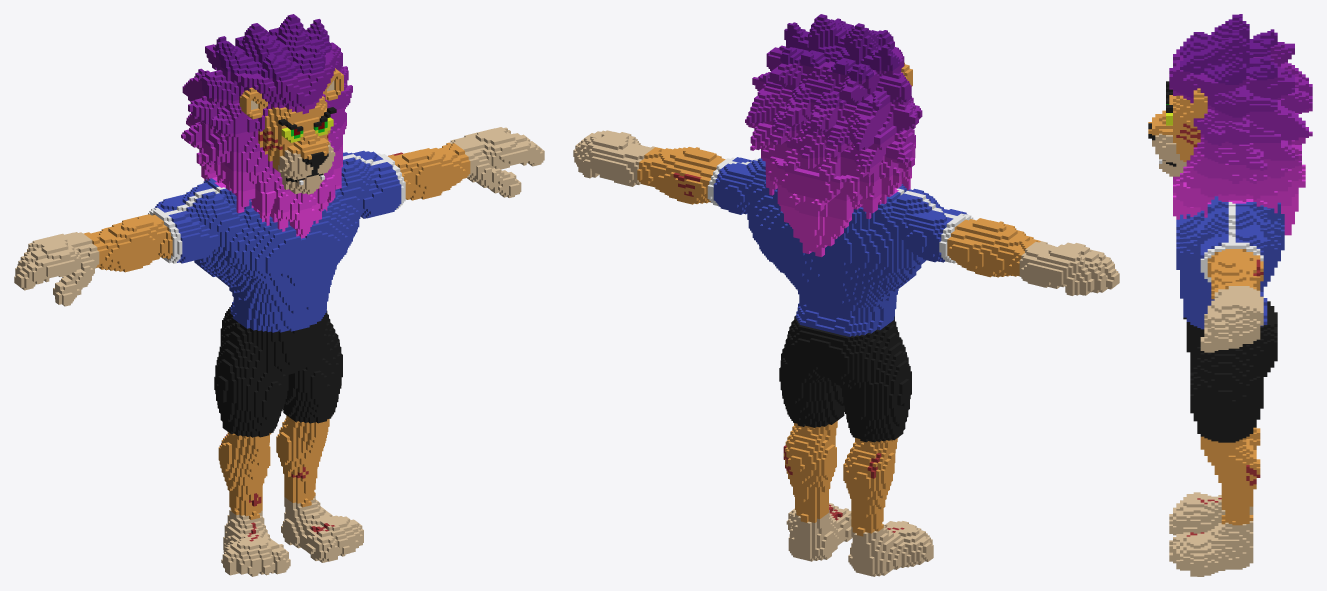
Rendered from 471-DoC2N_fR.glb.
The picture shows the model from 3 angles, left to right: view 1: azimuth 30°, elevation 25°; view 2: azimuth 150°, elevation 25°; view 3: azimuth 270°, elevation 25°; orthographic projection. The views are drawn at different scales.
Visible parts, largest first — view 1: standard; view 2: standard; view 3: standard.
Part boxes in pixels (x1,y1,x2,y2): standard: (14, 14, 544, 576); standard: (573, 14, 1119, 576); standard: (1148, 14, 1312, 576).
Bounding box in the file's own units: 17.2 × 16.5 × 4.7.
Materials: 5 (5 with a texture image).
